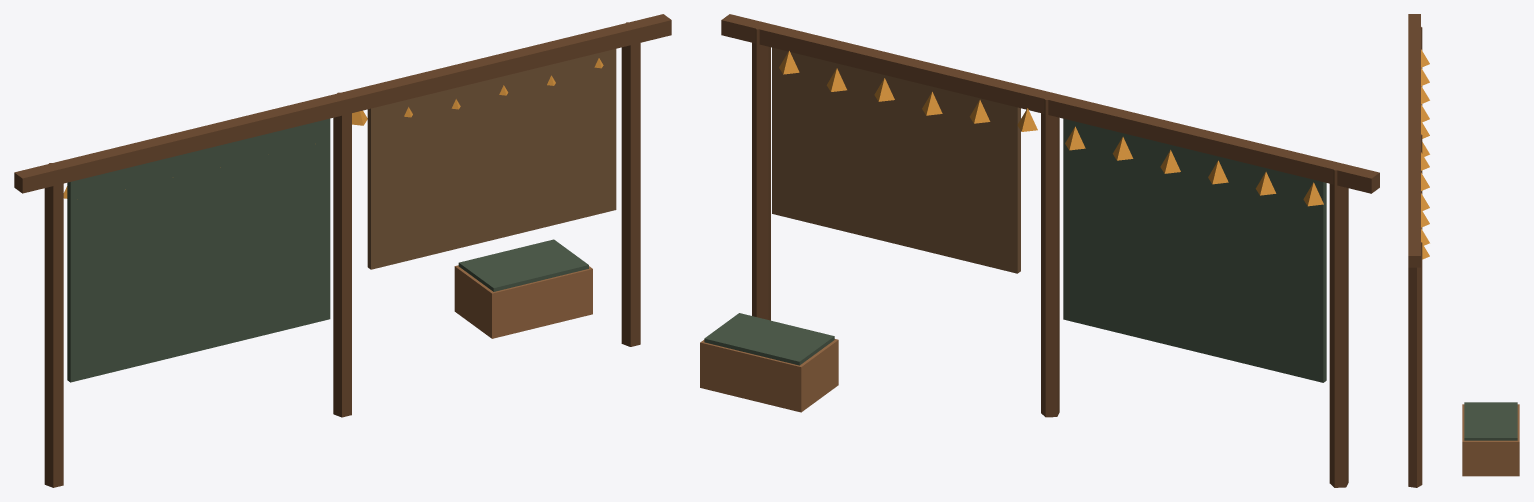
File: natstallning.glb
3 views of the same model, side by side, from view 1: azimuth 30°, elevation 25°; view 2: azimuth 150°, elevation 25°; view 3: azimuth 270°, elevation 25° (orthographic). The views are drawn at different scales.
Parts seen in each view (by area): view 1: natstallning; view 2: natstallning; view 3: natstallning.
Boxes of the visible parts, x1,y1,x2,y2 form: natstallning: (14,14,671,487); natstallning: (700,14,1379,487); natstallning: (1408,14,1519,487).
Size of the model in its own units: 4.5 by 2.1 by 0.875.
